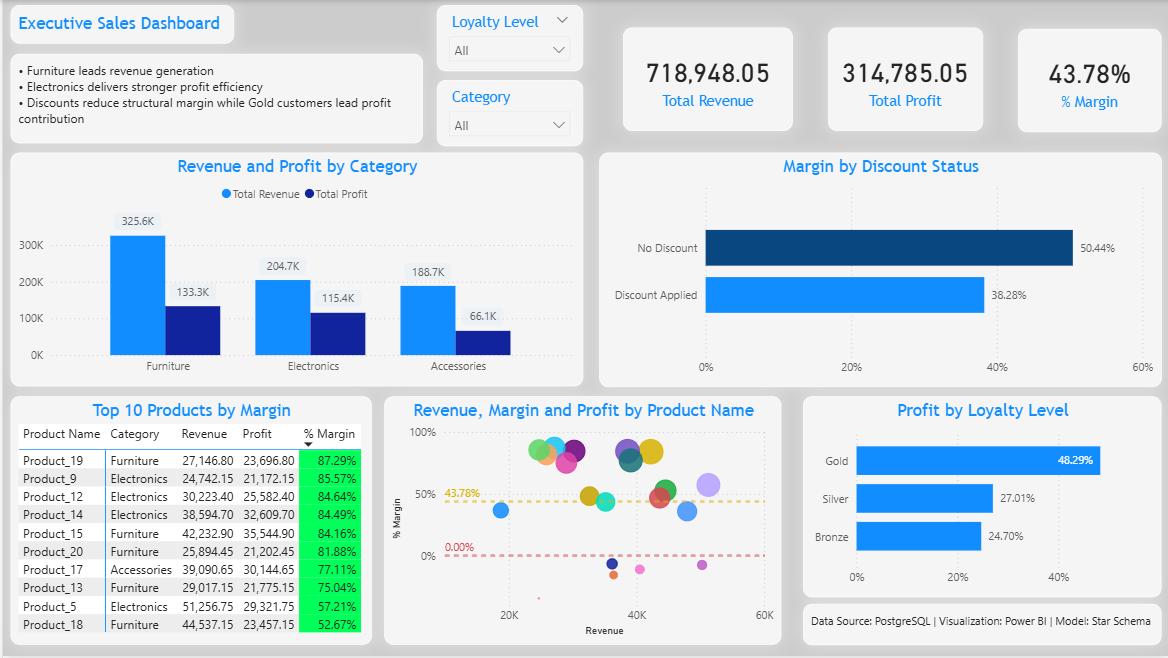

This screenshot's page, from the dashboard's own definition file:
{"tool":"powerbi","page":{"name":"Página 1","canvas":[1280,720],"ordinal":0},"visuals":[{"type":"card","fields":{"Values":["_Measures.% Margin"]},"box":[1114.2,31.6,157.8,113.9],"z":0},{"type":"card","fields":{"Values":["_Measures.Total Profit"]},"box":[905.7,30.2,170.2,113.9],"z":1000},{"type":"card","fields":{"Values":["_Measures.Total Revenue"]},"box":[680.6,30.2,186.6,113.9],"z":2000},{"type":"pivotTable","title":"Top 10 Products by Margin","fields":{"Rows":["public dim_products.product_name"],"Values":["Min(public dim_products.category)","Sum(public analytics_sales_base.revenue)","Sum(public analytics_sales_base.profit)","_Measures.% Margin"]},"box":[8.2,435,396.6,273.1],"z":3000},{"type":"textbox","box":[8.2,5.5,245.6,42.5],"z":4000},{"type":"slicer","fields":{"Values":["public dim_customers.loyalty_level"]},"box":[476.2,5.5,160.5,72.7],"z":5000},{"type":"slicer","fields":{"Values":["public dim_products.category"]},"box":[476.2,87.8,160.5,72.7],"z":6000},{"type":"clusteredColumnChart","title":"Revenue and Profit by Category","fields":{"Category":["public dim_products.category"],"Y":["_Measures.Total Revenue","_Measures.Total Profit"]},"box":[8.2,167.4,628.5,256.6],"z":7000},{"type":"clusteredBarChart","title":"Margin by Discount Status","fields":{"Category":["public analytics_sales_base.discount_analysis"],"Y":["_Measures.% Margin"]},"box":[654.5,167.4,617.5,258],"z":8000},{"type":"scatterChart","title":"Revenue, Margin and Profit by Product Name","fields":{"Y":["_Measures.% Margin"],"X":["_Measures.Total Revenue"],"Series":["public dim_products.product_name"],"Size":["_Measures.Total Profit"]},"box":[418.5,435,436.4,273.1],"z":9000},{"type":"clusteredBarChart","title":"Profit by Loyalty Level","fields":{"Category":["public dim_customers.loyalty_level"],"Y":["_Measures.Total Profit"]},"box":[878.2,435,393.8,220.9],"z":10000},{"type":"textbox","box":[8.2,59,452.8,98.8],"z":11000},{"type":"textbox","box":[878.2,662.8,393.8,45.3],"z":12000}]}

Visuals, with their boxes in screenshot pixels (x1, y1, x2, y2), scaled from the page's 1280x720 canvas onto the 1168x658 screenshot:
card - _Measures.% Margin: rect(1017, 29, 1161, 133)
card - _Measures.Total Profit: rect(826, 28, 982, 132)
card - _Measures.Total Revenue: rect(621, 28, 791, 132)
"Top 10 Products by Margin" pivotTable: rect(7, 398, 369, 647)
textbox: rect(7, 5, 232, 44)
slicer - public dim_customers.loyalty_level: rect(435, 5, 581, 71)
slicer - public dim_products.category: rect(435, 80, 581, 147)
"Revenue and Profit by Category" clusteredColumnChart: rect(7, 153, 581, 387)
"Margin by Discount Status" clusteredBarChart: rect(597, 153, 1161, 389)
"Revenue, Margin and Profit by Product Name" scatterChart: rect(382, 398, 780, 647)
"Profit by Loyalty Level" clusteredBarChart: rect(801, 398, 1161, 599)
textbox: rect(7, 54, 421, 144)
textbox: rect(801, 606, 1161, 647)
